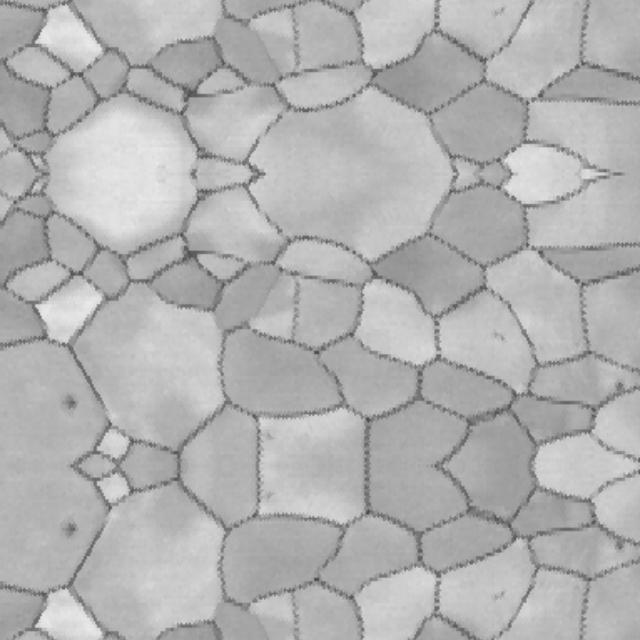good_void: (480, 320, 512, 347), (480, 584, 512, 611), (480, 0, 512, 26), (60, 397, 81, 417), (60, 514, 81, 534), (613, 538, 628, 554), (613, 377, 628, 392)
